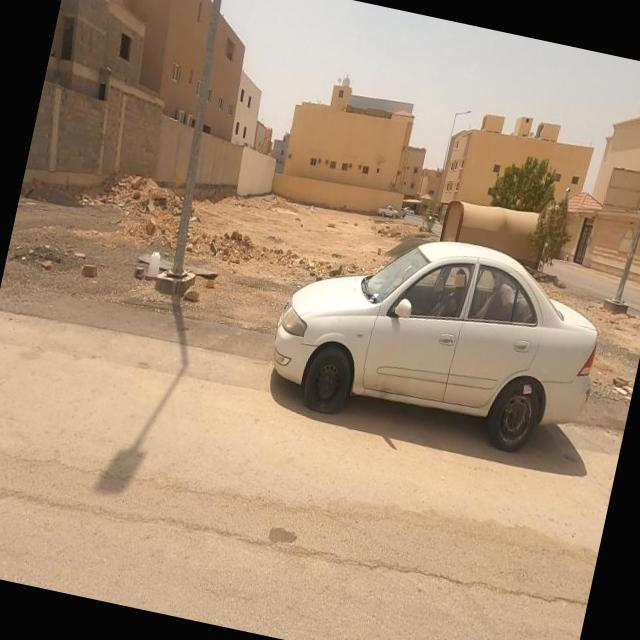debris: (118, 208, 187, 310)
